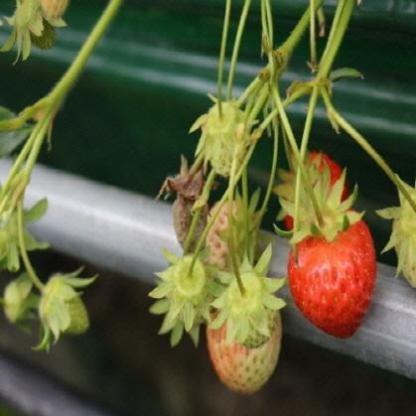Strawberry_Gray_Mold: (156, 154, 219, 254)
